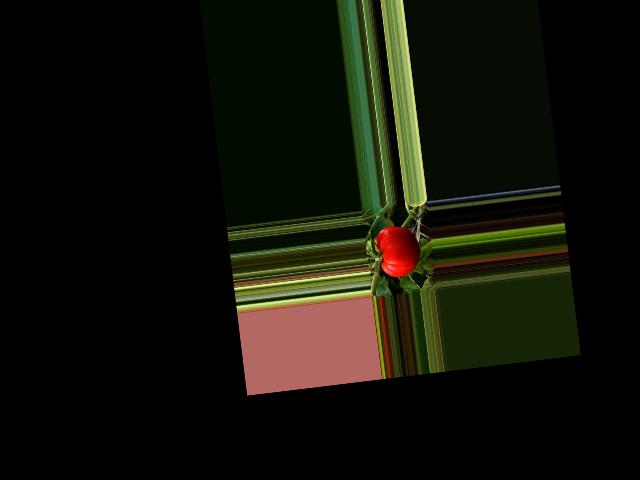tomato: (375, 222, 423, 278)
